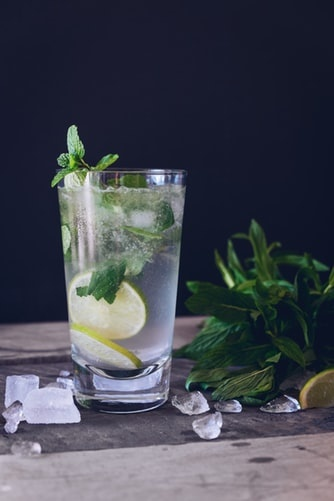whiskey: (54, 162, 187, 426)
